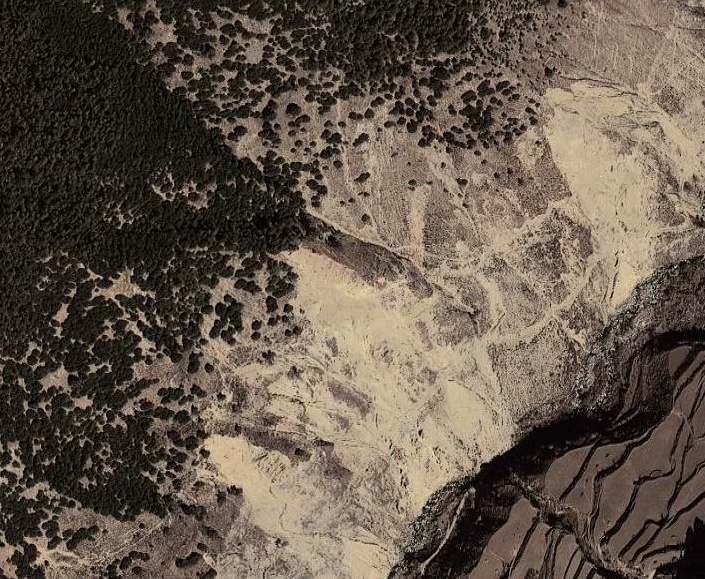slope: (207, 258, 512, 575), (535, 77, 704, 319)
